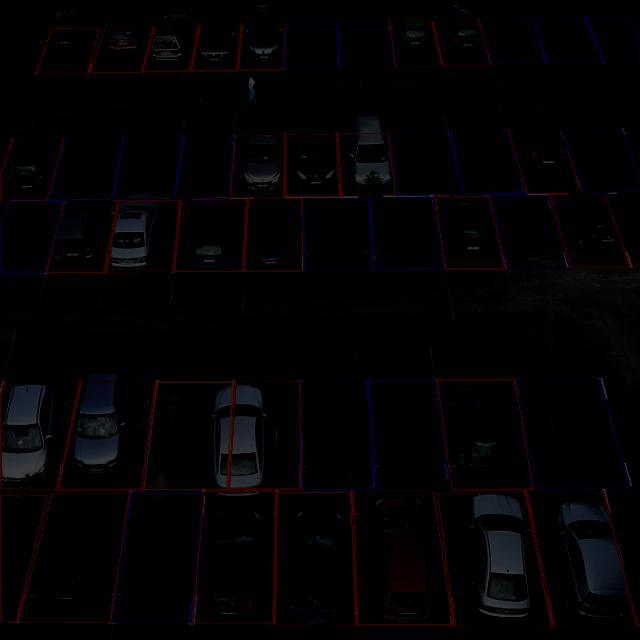empty: (116, 490, 196, 621), (538, 378, 613, 487), (371, 379, 443, 486), (302, 380, 369, 489), (150, 382, 210, 488), (371, 197, 443, 269), (302, 199, 374, 268), (494, 194, 561, 267), (114, 132, 178, 199), (570, 126, 637, 190), (392, 130, 459, 193), (456, 130, 518, 193), (55, 134, 112, 199), (2, 200, 54, 270), (180, 128, 232, 197), (486, 17, 546, 69), (612, 377, 638, 483), (338, 21, 394, 69), (285, 21, 338, 71), (592, 15, 640, 64), (0, 27, 44, 76)
occupied: (539, 490, 632, 624), (356, 491, 444, 623), (455, 492, 539, 622), (276, 488, 355, 623), (198, 490, 273, 623), (36, 492, 116, 606), (0, 368, 72, 483), (443, 379, 523, 481), (72, 376, 140, 482), (210, 381, 274, 490), (557, 192, 622, 267), (110, 200, 174, 270), (179, 200, 243, 270), (244, 199, 304, 270), (441, 193, 498, 267), (52, 200, 107, 272), (514, 121, 570, 191), (230, 125, 285, 196), (337, 127, 391, 196), (285, 130, 339, 196), (2, 135, 56, 200), (436, 15, 487, 66), (42, 24, 94, 72), (94, 24, 148, 70), (238, 22, 285, 72), (392, 17, 436, 68), (147, 24, 195, 70), (193, 24, 238, 70)
